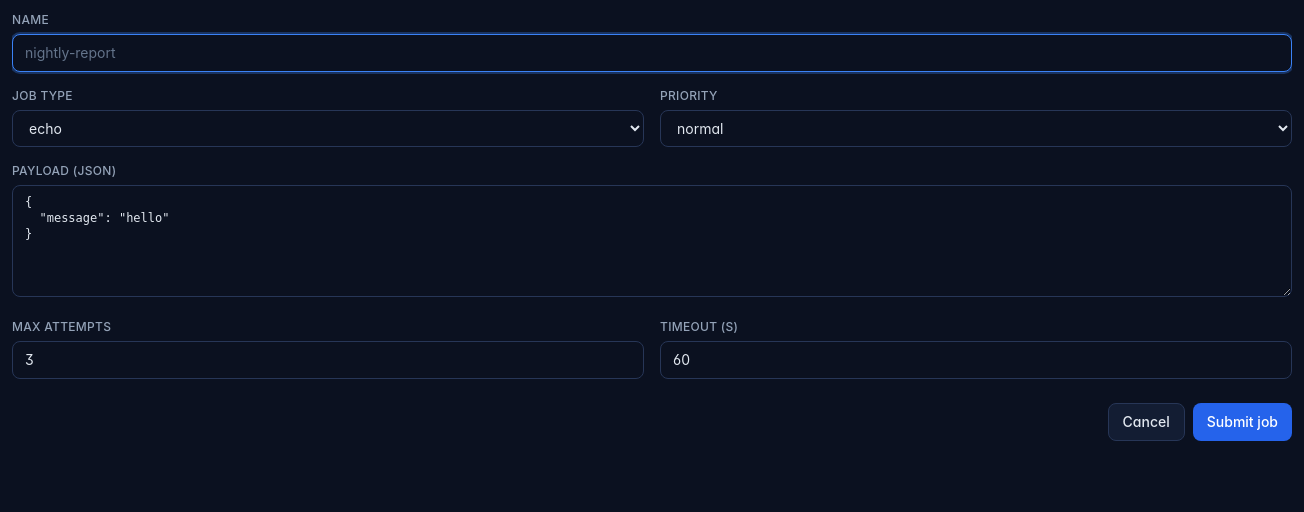
Test: <CreateJobForm> › surfaces a server-side rejection
Select "unknown" in the dropdown labelled "Job type" at (328, 128), box [12,110,644,147]
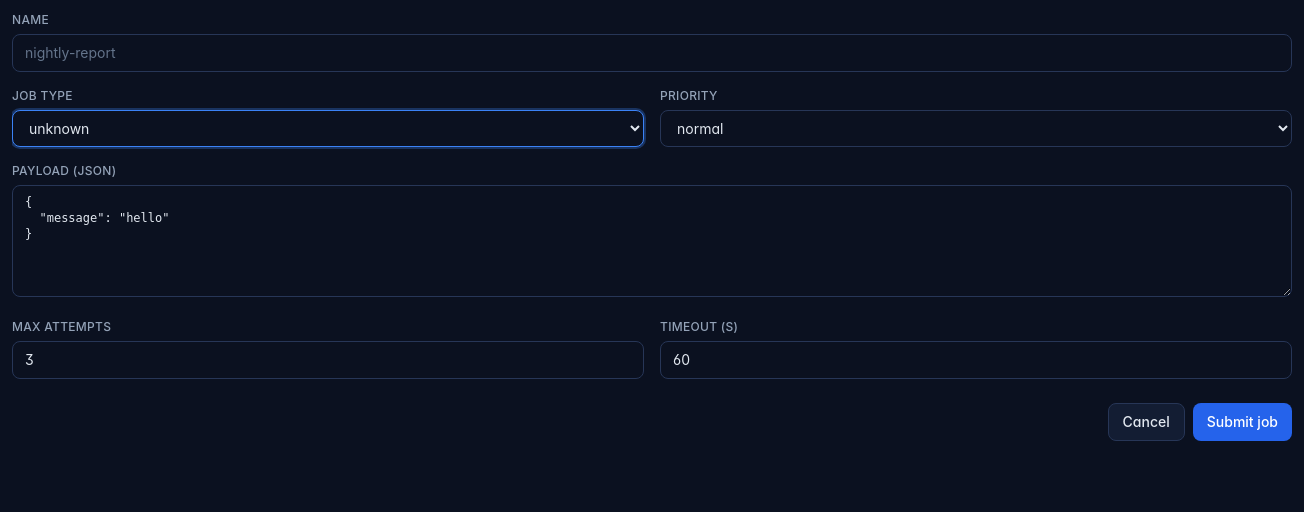
Type "bad" into the field labelled "Name" at (652, 53), box [12,34,1292,72]
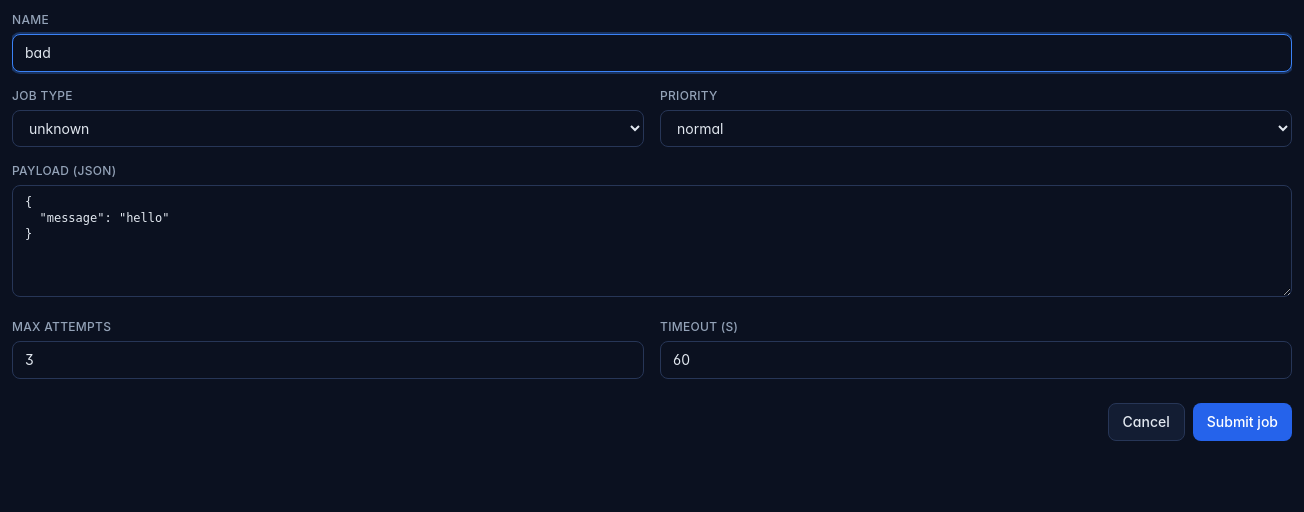
Click the button "Submit job" at (1242, 422), box [1193,403,1292,441]
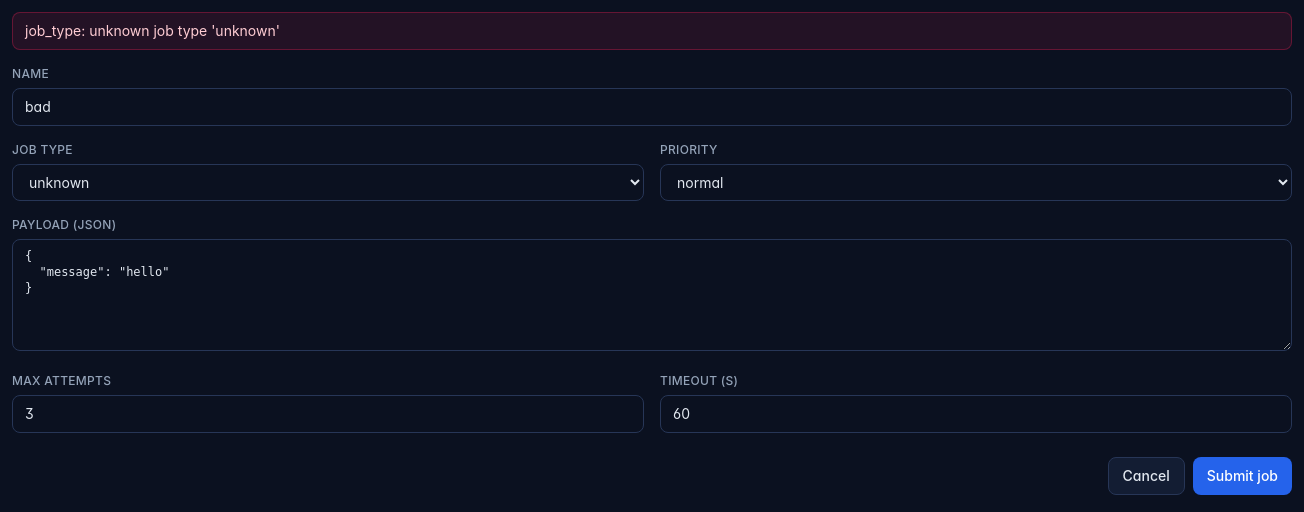
expect the message shows "unknown job type 'unknown'": met, box [25,22,280,39]
